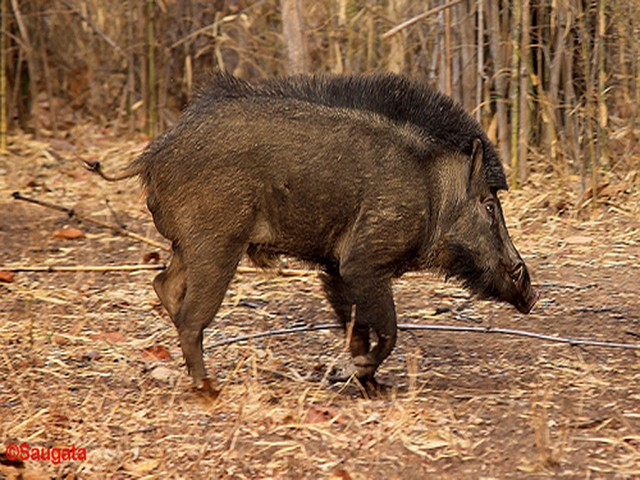Pig: (103, 62, 550, 367)
